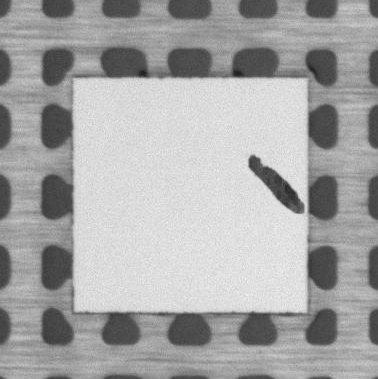DIE_INK: (246, 156, 304, 216)
